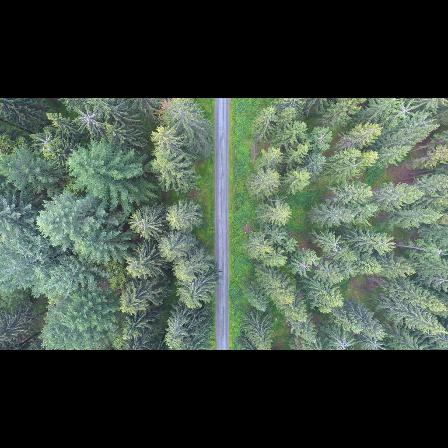Sick: (73, 105, 108, 134), (29, 130, 60, 160), (291, 247, 315, 281), (325, 236, 344, 259), (360, 335, 389, 350), (328, 336, 357, 350)
